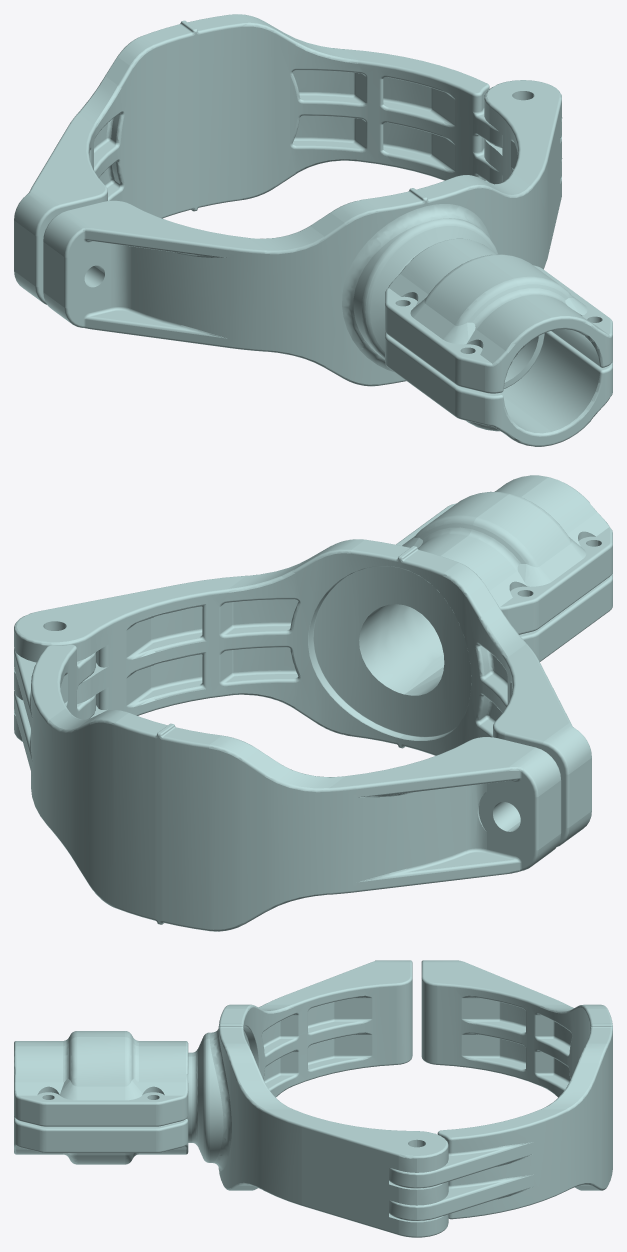
The picture shows the model from 3 angles, top to bottom: view 1: azimuth 30°, elevation 25°; view 2: azimuth 150°, elevation 25°; view 3: azimuth 270°, elevation 25°; orthographic projection. The views are drawn at different scales.
Size of the model in its own units: 216 by 72.54 by 268.
